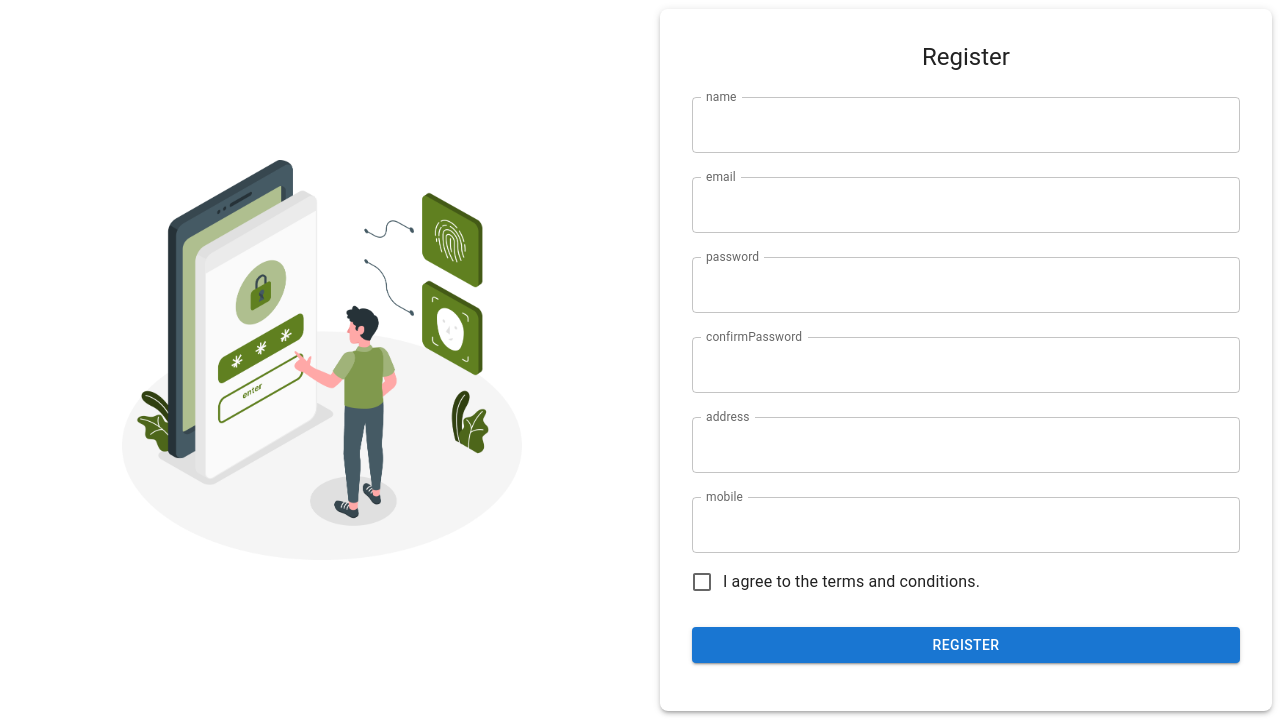
Scenario: RegisterForm › should render another warning message, if a checkbox is not checked
The width and height of the screenshot is (1280, 720).
Type "joon@gmail.com" into the field labelled "email" at (966,205), box 692,177 -> 1240,233
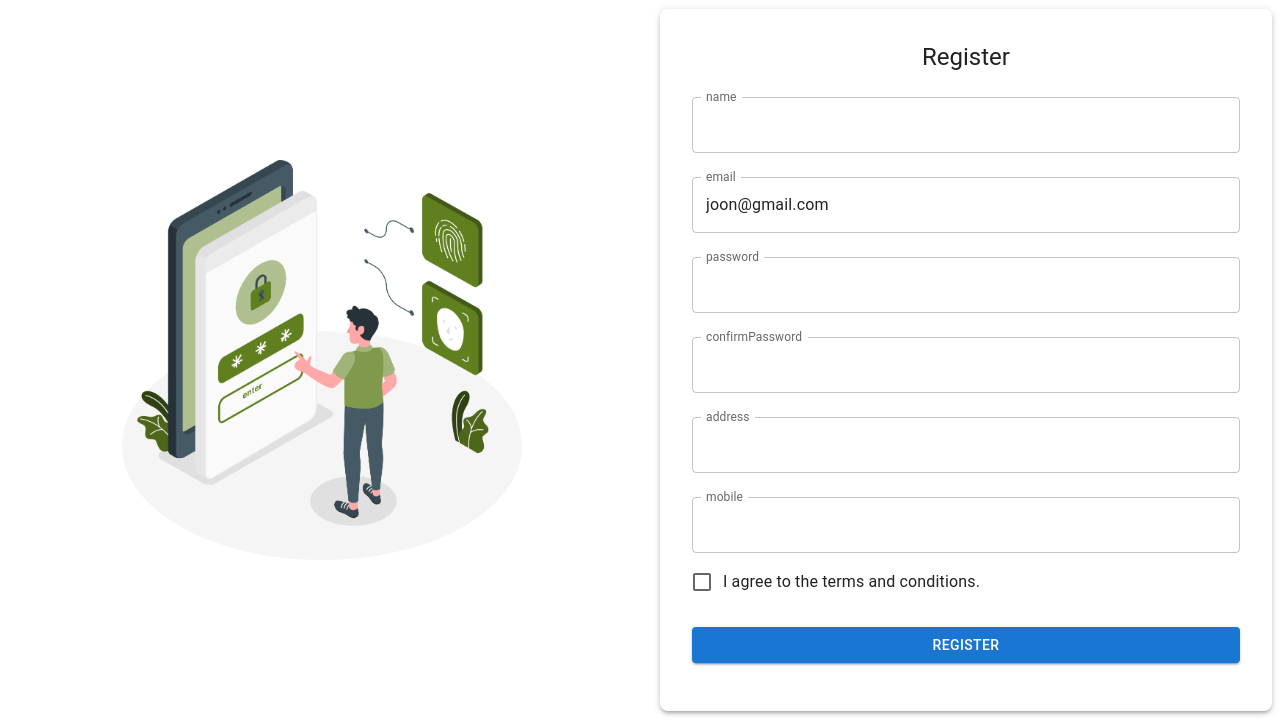
Type "password123" into the password field labelled "password" at (966,285), box 692,257 -> 1240,313
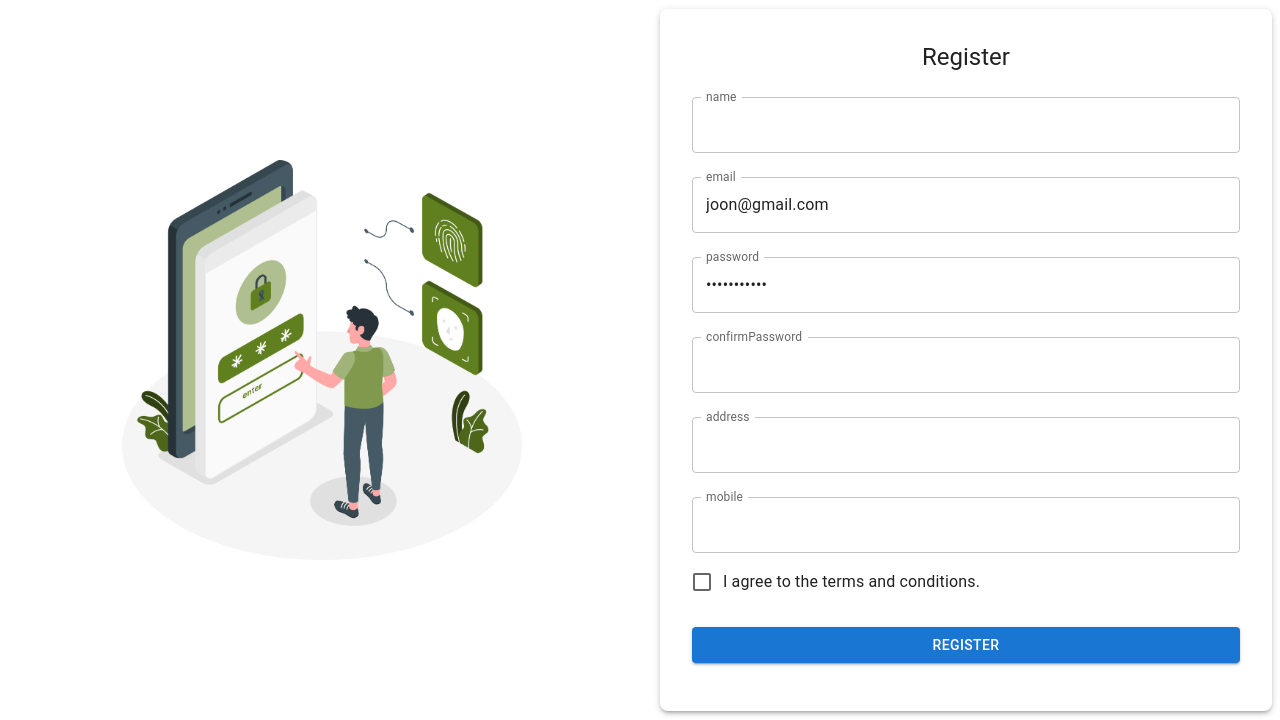
Type "password123" into the password field labelled "confirmPassword" at (966,365), box 692,337 -> 1240,393
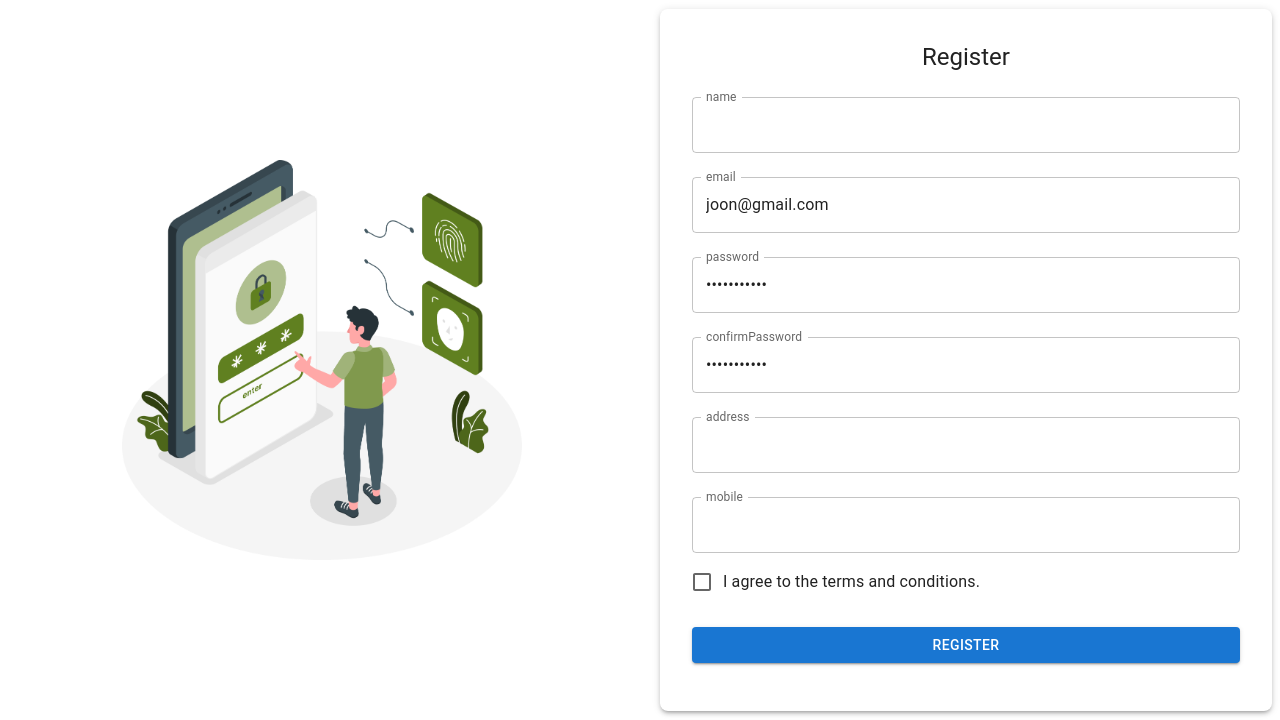
Click the button "Register" at (966,645), box 692,627 -> 1240,664
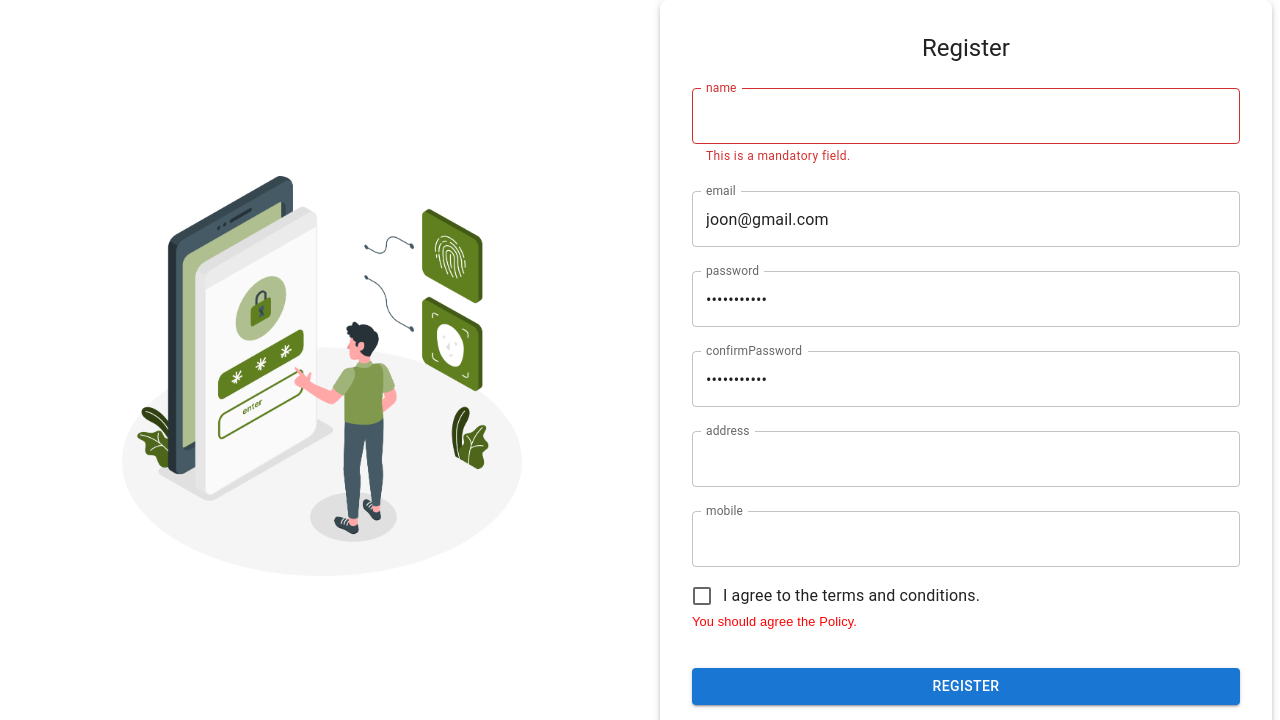
Expected: the checkbox is not checked, 690,584 -> 980,608
Now the text "You should agree the Policy." is shown, box 692,614 -> 857,629
